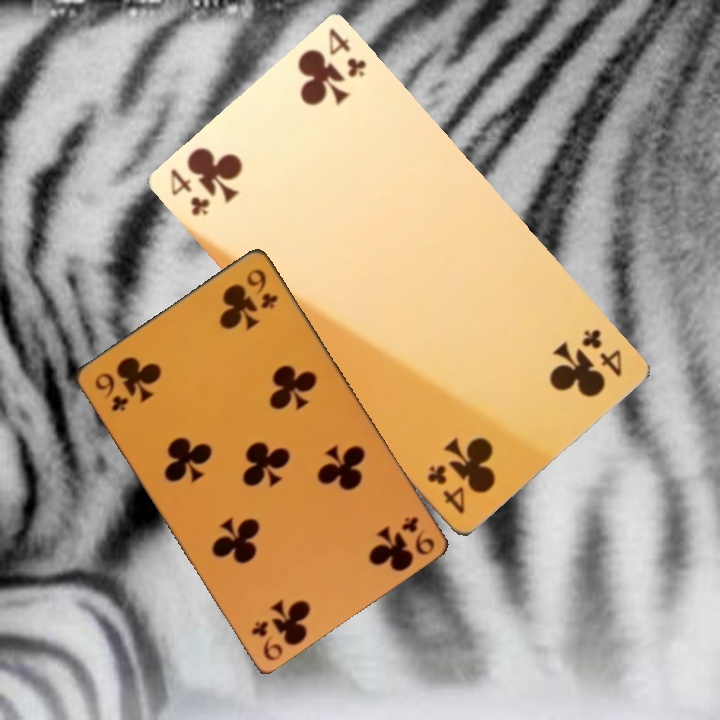4c: (159, 164, 224, 232), (574, 319, 638, 387), (316, 26, 380, 94)
9c: (86, 362, 132, 418), (241, 608, 287, 664), (237, 258, 283, 313), (392, 504, 438, 559)
